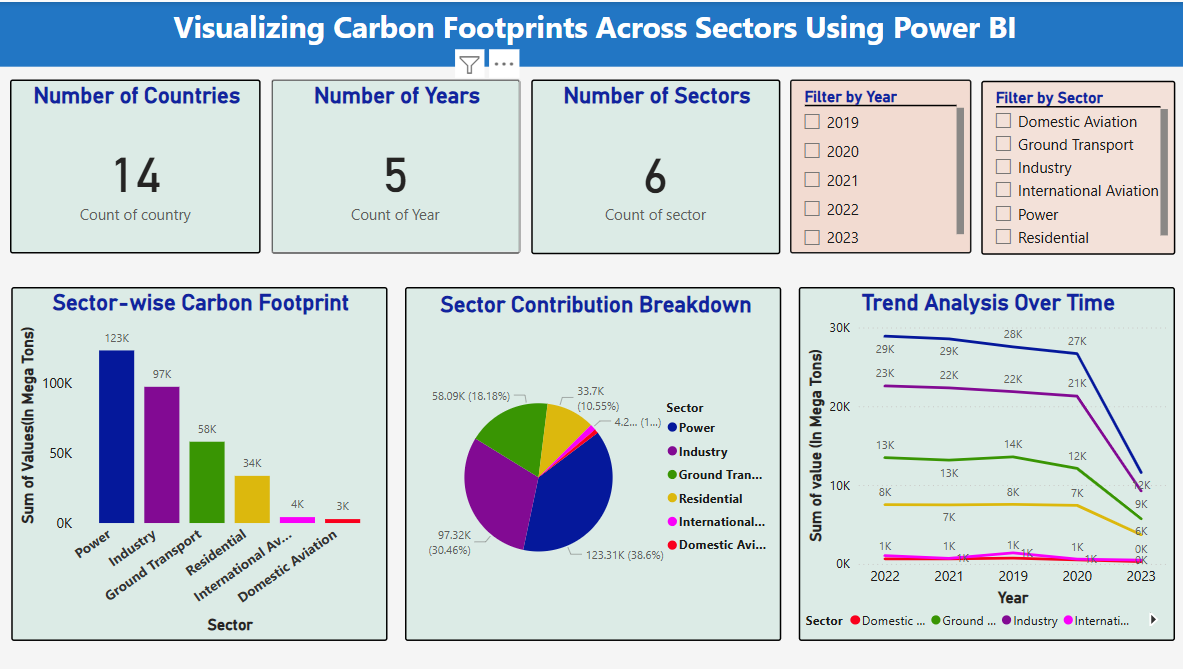

This screenshot's page, from the dashboard's own definition file:
{"tool":"powerbi","page":{"name":"Page 1","canvas":[1280,720],"ordinal":0},"visuals":[{"type":"textbox","box":[0,0,1280.3,69.7],"z":0},{"type":"card","title":"Number of Years","fields":{"Values":["Count(80881fd3222431095135.Year)"]},"box":[291.8,83.4,267.6,186.9],"z":1000},{"type":"card","title":"Number of Countries","fields":{"Values":["Count(80881fd3222431095135.country)"]},"box":[10.8,82.7,269.9,187.2],"z":2000},{"type":"card","title":"Number of Sectors","fields":{"Values":["Count(80881fd3222431095135.sector)"]},"box":[571.6,83.4,267.6,188.3],"z":3000},{"type":"columnChart","title":"Sector-wise Carbon Footprint","fields":{"Category":["80881fd3222431095135.sector"],"Y":["Sum(80881fd3222431095135.value (In Mega Tons))"]},"box":[12.1,306.6,404.8,380.6],"z":4000},{"type":"lineChart","title":"Trend Analysis Over Time","fields":{"Category":["80881fd3222431095135.Year"],"Y":["Sum(80881fd3222431095135.value (In Mega Tons))"],"Series":["80881fd3222431095135.sector"]},"box":[859.3,306.6,404.8,380.6],"z":5000},{"type":"pieChart","title":"Sector Contribution Breakdown","fields":{"Category":["80881fd3222431095135.sector"],"Y":["Sum(80881fd3222431095135.value (In Mega Tons))"]},"box":[435.7,306.6,404.8,380.6],"z":6000},{"type":"slicer","fields":{"Values":["80881fd3222431095135.Year"]},"box":[849.9,83.4,195,186.9],"z":7000},{"type":"slicer","fields":{"Values":["80881fd3222431095135.sector"]},"box":[1055.7,84.7,208.4,186.9],"z":8000}]}

Visuals, with their boxes in screenshot pixels (x1, y1, x2, y2), scaled from the page's 1280x720 canvas onto the 1183x669 screenshot:
textbox: bbox=(0, 0, 1182, 65)
"Number of Years" card: bbox=(270, 77, 517, 251)
"Number of Countries" card: bbox=(10, 77, 259, 251)
"Number of Sectors" card: bbox=(528, 77, 776, 252)
"Sector-wise Carbon Footprint" columnChart: bbox=(11, 285, 385, 639)
"Trend Analysis Over Time" lineChart: bbox=(794, 285, 1168, 639)
"Sector Contribution Breakdown" pieChart: bbox=(403, 285, 777, 639)
slicer - 80881fd3222431095135.Year: bbox=(785, 77, 966, 251)
slicer - 80881fd3222431095135.sector: bbox=(976, 79, 1168, 252)
